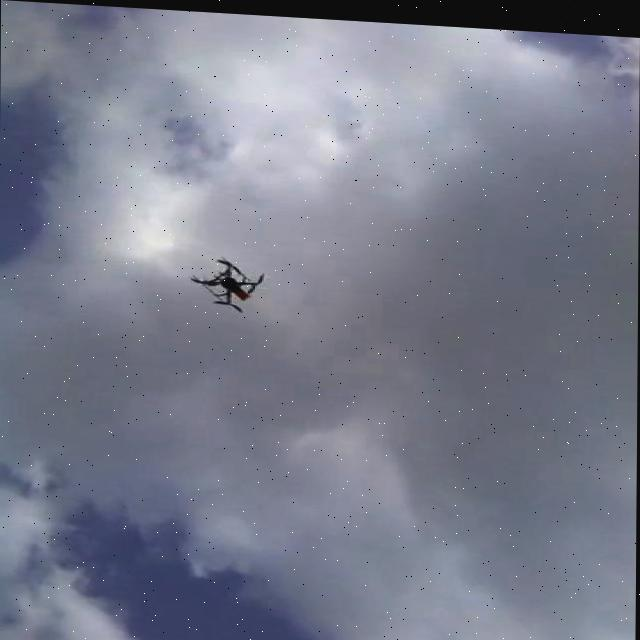drone: (191, 257, 266, 312)
